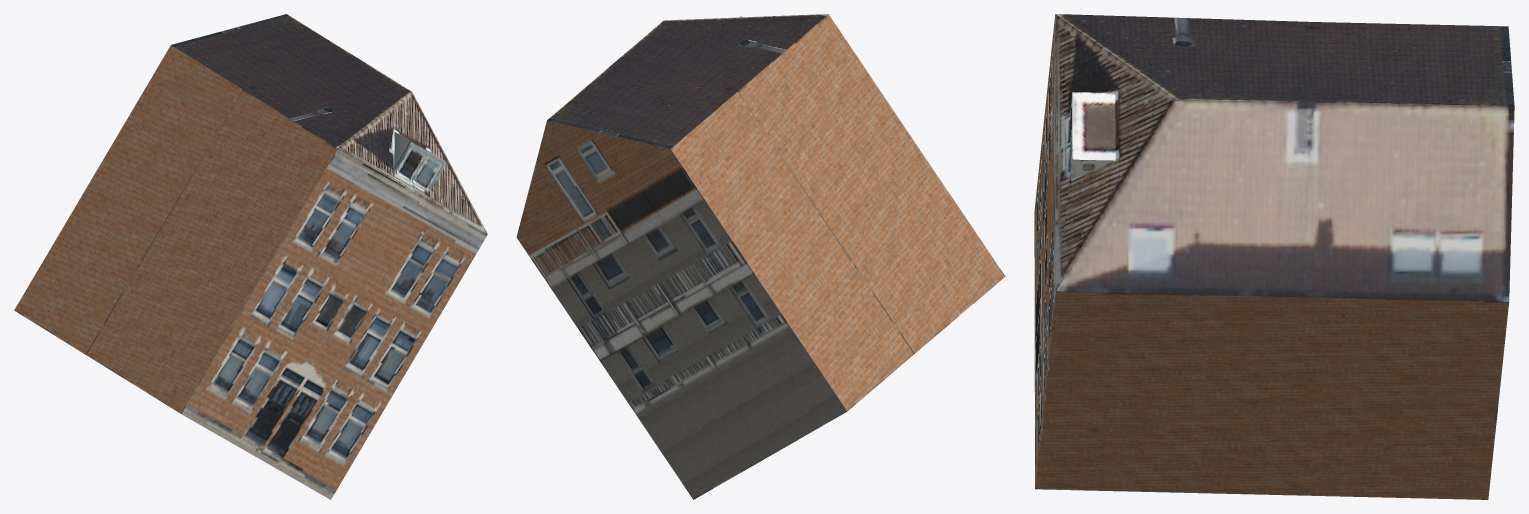
3 views of the same model, side by side, from view 1: azimuth 30°, elevation 25°; view 2: azimuth 150°, elevation 25°; view 3: azimuth 270°, elevation 25° (orthographic). The views are drawn at different scales.
Visible parts, largest first — view 1: BAG_0599100000675848 (×3); view 2: BAG_0599100000675848 (×3); view 3: BAG_0599100000675848 (×4).
Boxes of the visible parts, x1,y1,x2,y2 form: BAG_0599100000675848 (×3): (14,14,487,499); BAG_0599100000675848 (×3): (516,14,1005,499); BAG_0599100000675848 (×4): (1034,14,1514,499).
Size of the model in its own units: 13.7 by 14.43 by 12.53.
1 material, 1 textured.
